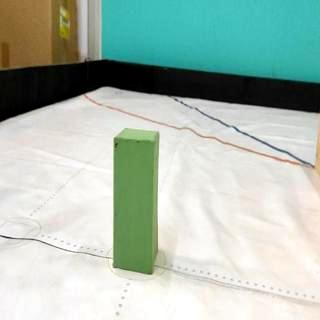greenbox: (114, 127, 160, 276)
